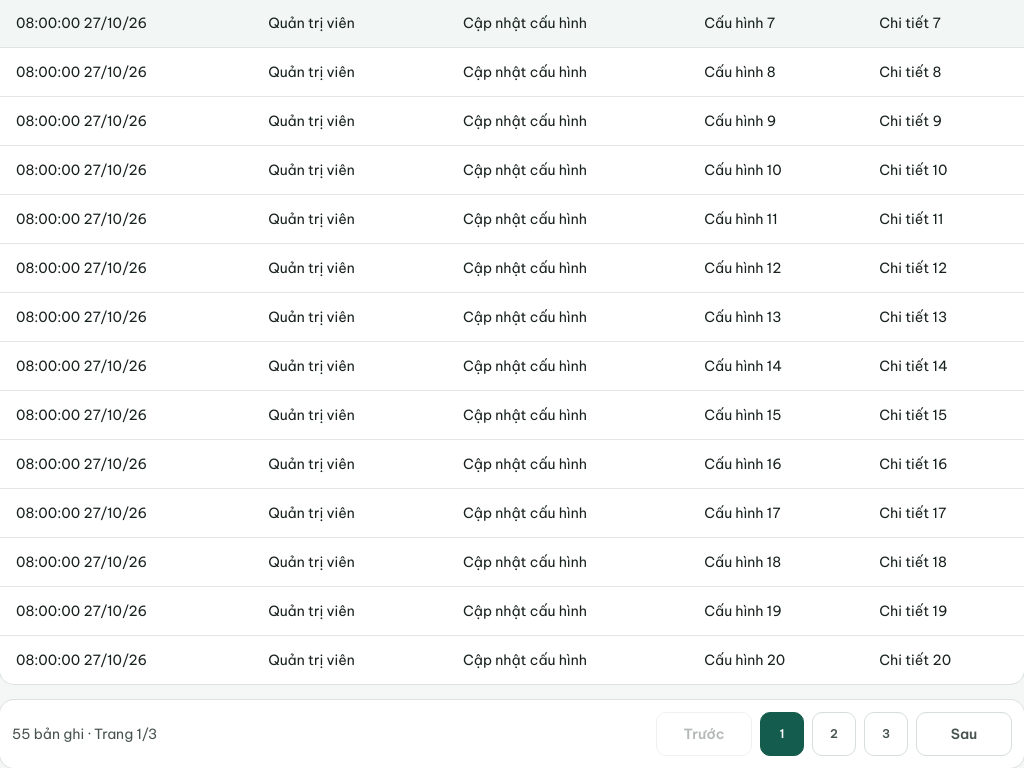
Scenario: AdminAuditLogs pagination › điều hướng bằng nút Trước và Sau trong giới hạn
The width and height of the screenshot is (1024, 768).
(page scrolled)
Expected: the text "55 bản ghi · Trang 1/3" is shown, [12,724,157,744]
Expected: the button "Trước" is disabled, [656,712,752,756]
Click the button "Sau": (964, 734) [916,712,1012,756]
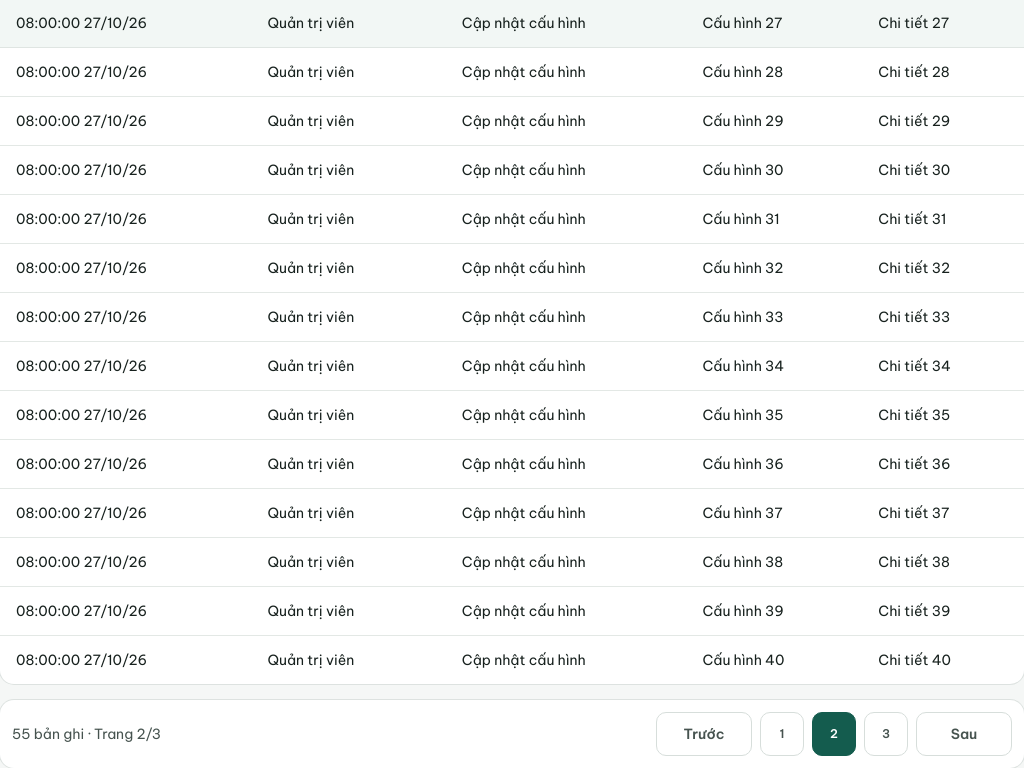
Expected: the text "55 bản ghi · Trang 2/3" is shown, [12,724,161,744]
Click the button "Trước": (704, 734) [656,712,752,756]
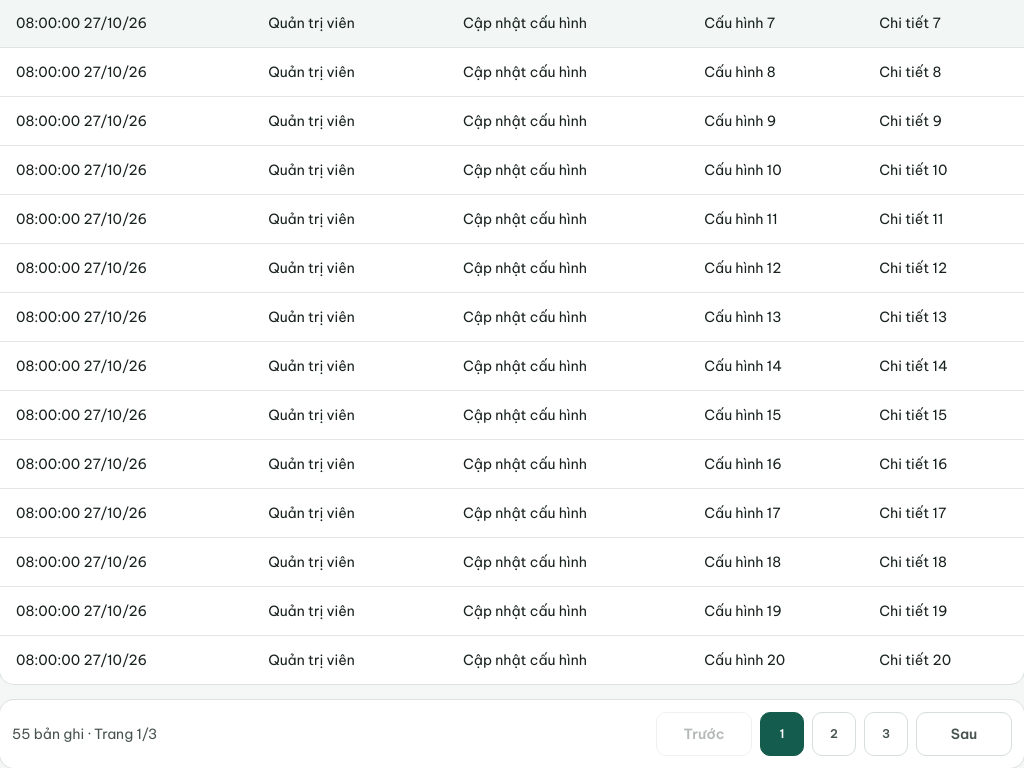
Expected: the text "55 bản ghi · Trang 1/3" is shown, [12,724,157,744]
